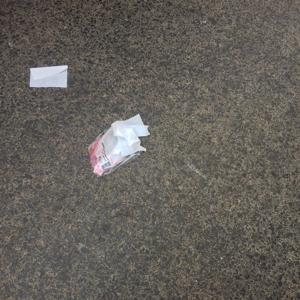paper: (19, 59, 68, 93)
plastic: (84, 117, 153, 178)
